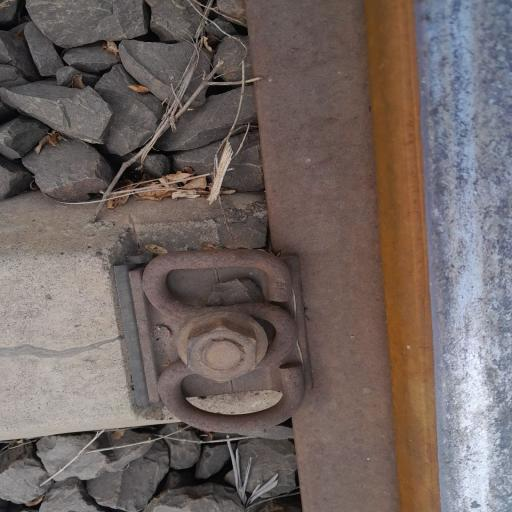bolt: (165, 308, 281, 397)
clip: (105, 244, 325, 452)
